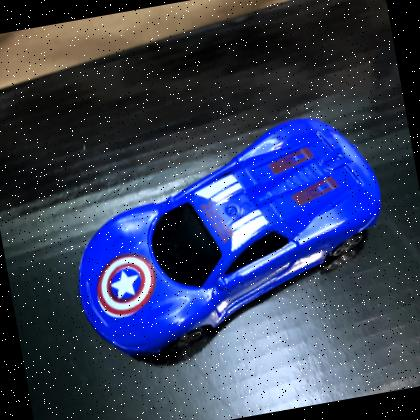Car: (77, 118, 383, 368)
